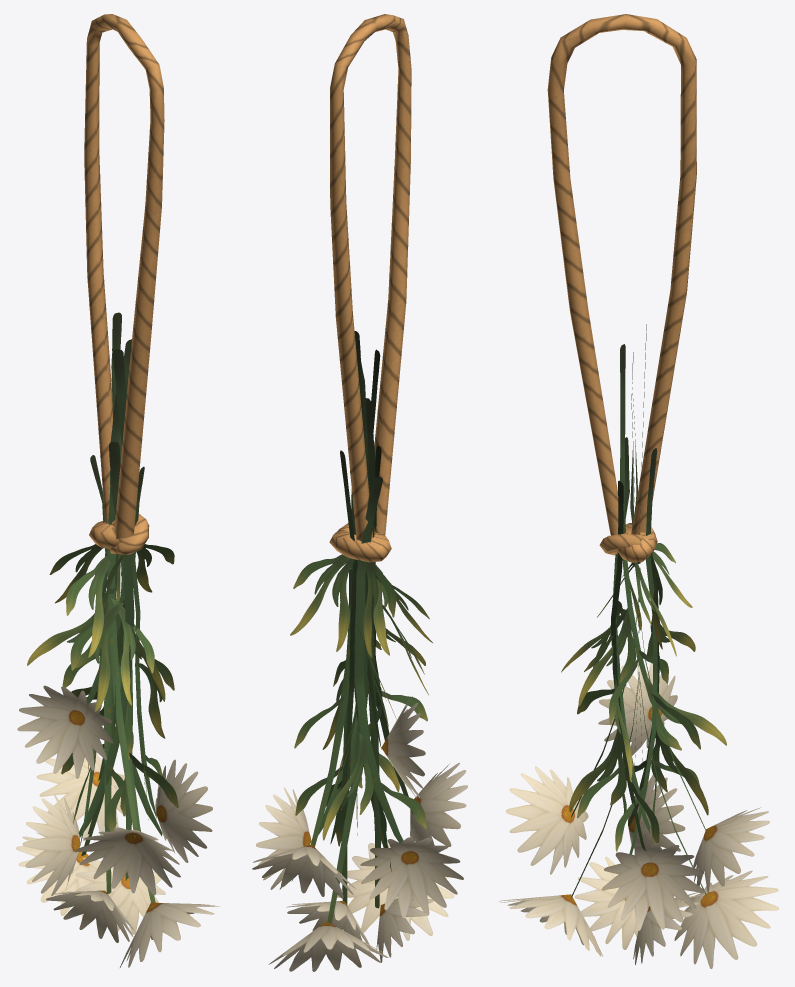
File: SM_Potion_Props_Herb_Broom_Ceiling_05.fbx
The picture shows the model from 3 angles, left to right: view 1: azimuth 30°, elevation 25°; view 2: azimuth 150°, elevation 25°; view 3: azimuth 270°, elevation 25°; orthographic projection.
Visible parts, largest first — view 1: SM_Potion_Props_Herb_Broom_Ceiling_05_LOD0; view 2: SM_Potion_Props_Herb_Broom_Ceiling_05_LOD0; view 3: SM_Potion_Props_Herb_Broom_Ceiling_05_LOD0.
Part boxes in pixels (box(x1,y1,x2,y2)): SM_Potion_Props_Herb_Broom_Ceiling_05_LOD0: box(16, 14, 219, 967); SM_Potion_Props_Herb_Broom_Ceiling_05_LOD0: box(252, 14, 467, 971); SM_Potion_Props_Herb_Broom_Ceiling_05_LOD0: box(499, 14, 779, 968).
Size of what is drawn, in the model's own units: 23.1 by 115 by 31.45.
